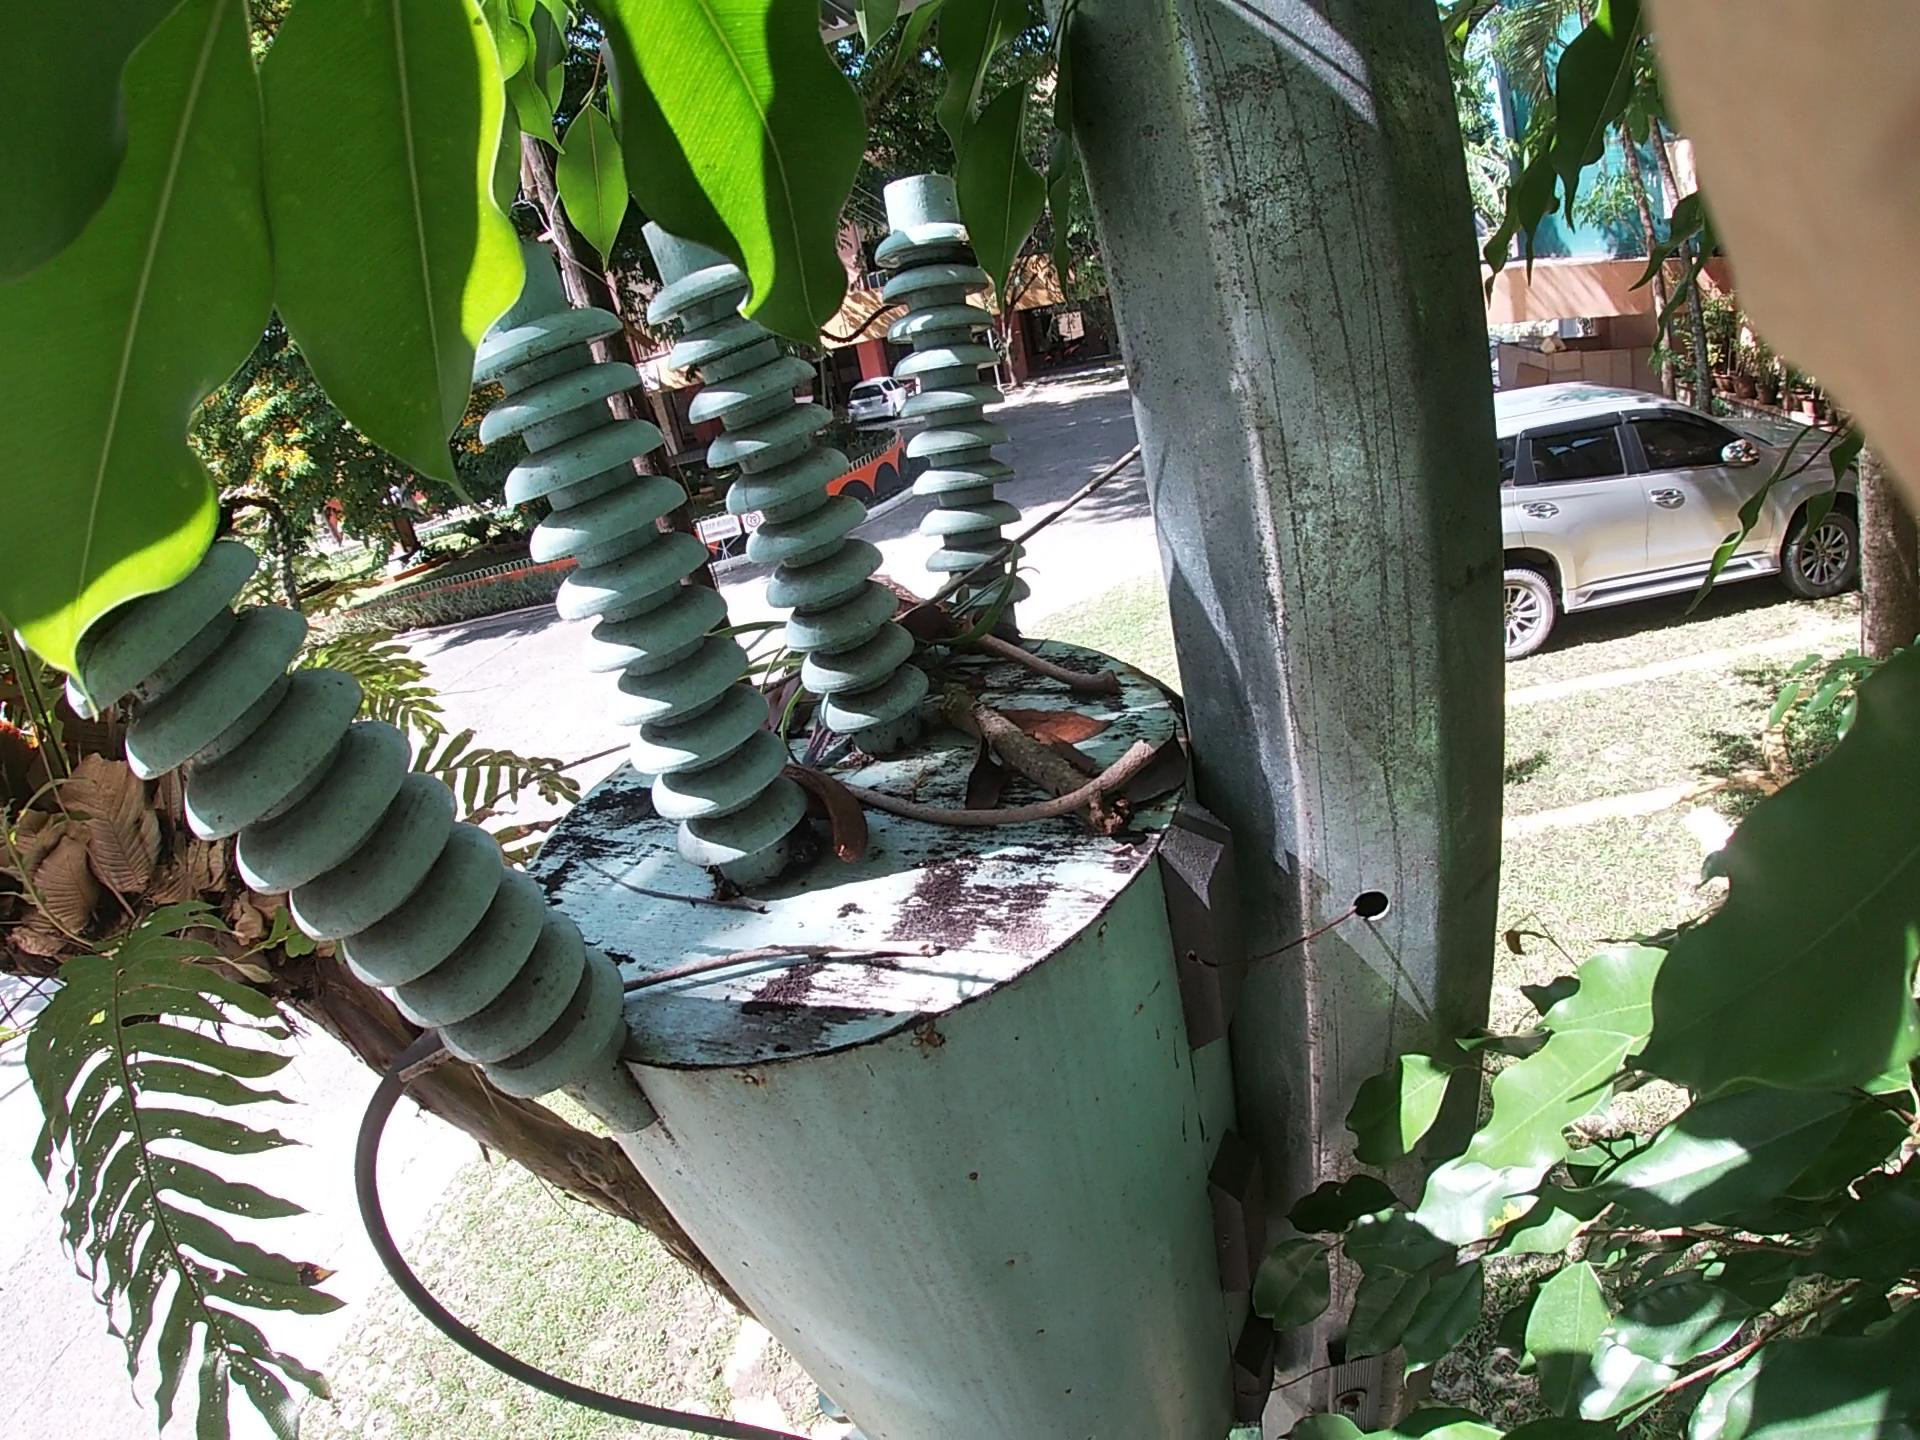branch with leaves: (797, 557, 1089, 861)
leaf: (943, 681, 1138, 853)
tree branch: (838, 390, 1212, 762), (392, 900, 931, 1137), (974, 570, 1175, 740)
